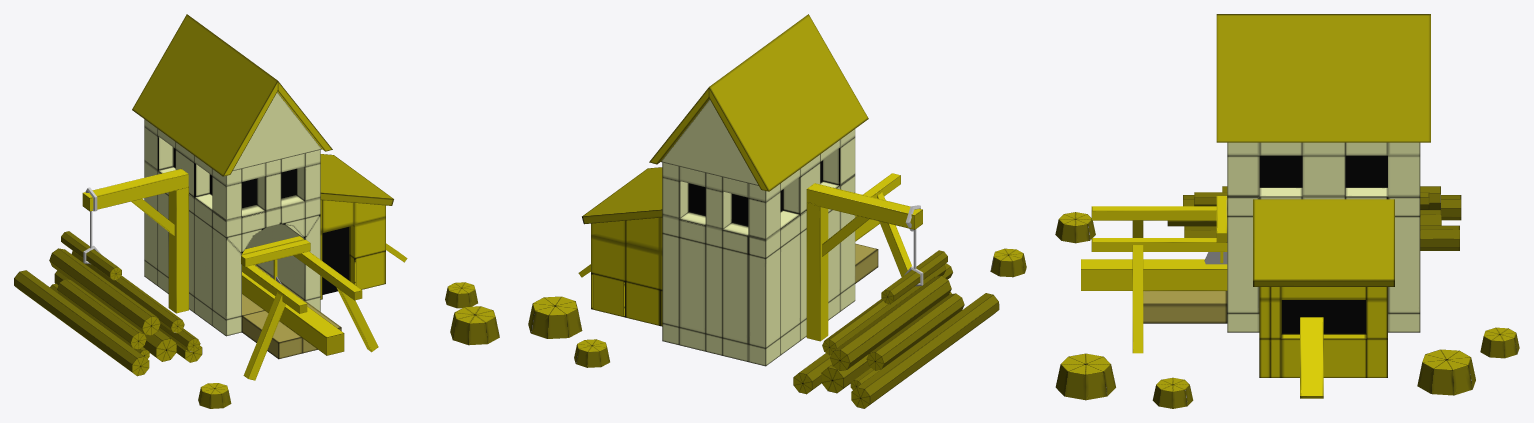
Rendered from wood_mine.fbx.
3 renders of one model, left to right at view 1: azimuth 30°, elevation 25°; view 2: azimuth 150°, elevation 25°; view 3: azimuth 270°, elevation 25°, orthographic. The views are drawn at different scales.
Visible parts, largest first — view 1: wood_mine_mesh; view 2: wood_mine_mesh; view 3: wood_mine_mesh.
Boxes of the visible parts, bbox=[...] form: wood_mine_mesh: bbox=[14, 14, 499, 408]; wood_mine_mesh: bbox=[528, 14, 1026, 408]; wood_mine_mesh: bbox=[1055, 14, 1519, 408].
Size of the model in its own units: 21.57 by 15.75 by 21.66.
